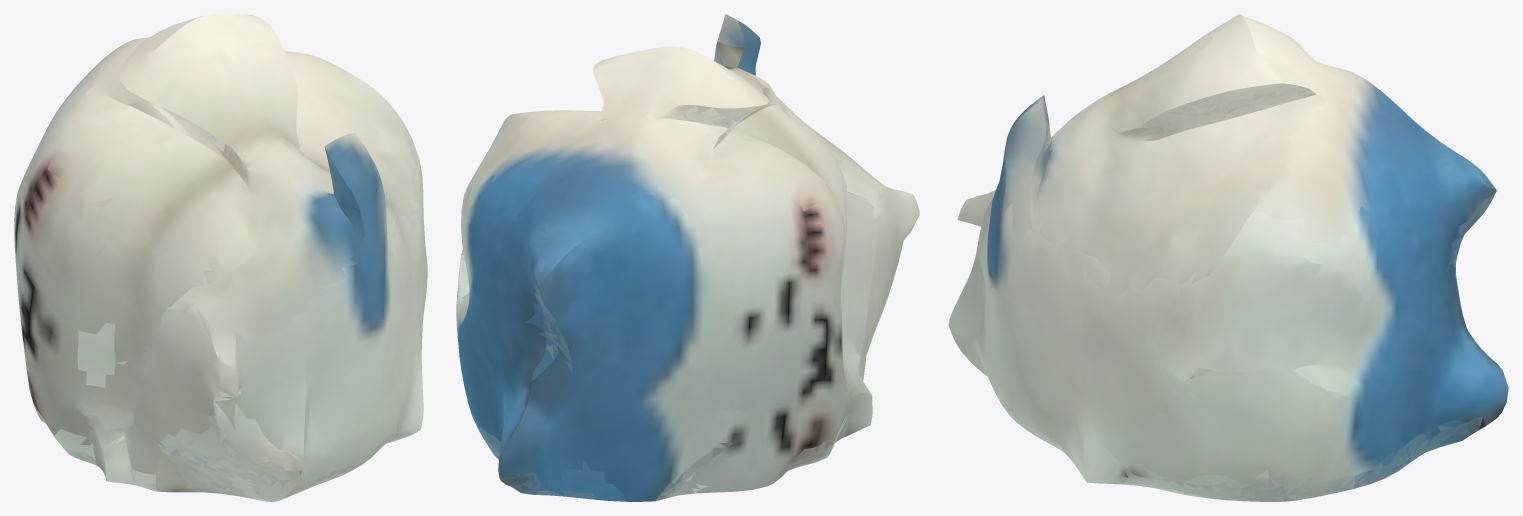
The model's file is hachiware.glb.
3 views of the same model, side by side, from view 1: azimuth 30°, elevation 25°; view 2: azimuth 150°, elevation 25°; view 3: azimuth 270°, elevation 25° (orthographic). The views are drawn at different scales.
Parts seen in each view (by area): view 1: Object_2; view 2: Object_2; view 3: Object_2.
Boxes of the visible parts, <box> form: Object_2: <box>14,14,427,501</box>; Object_2: <box>456,14,919,501</box>; Object_2: <box>948,14,1508,501</box>.
Size of the model in its own units: 17.47 by 17.9 by 22.74.
Materials: 1 (1 with a texture image).
